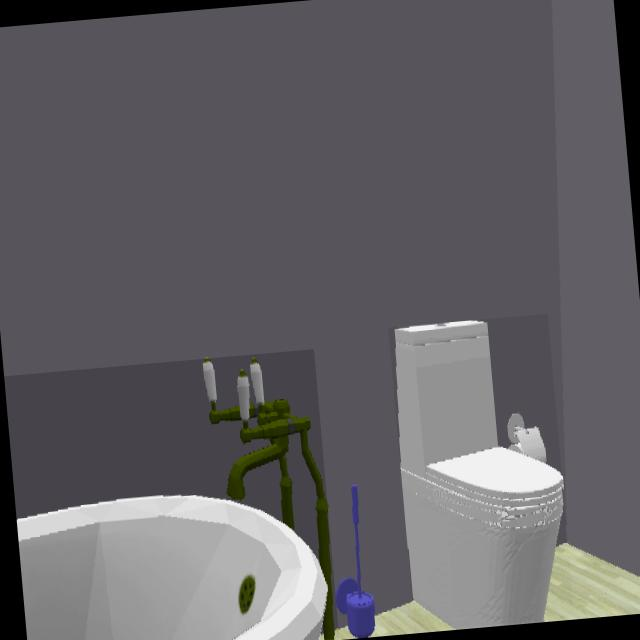bathtube: (17, 359, 333, 640)
toilet: (396, 320, 563, 627)
